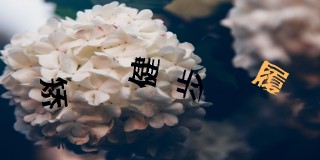健: (128, 56, 160, 88)
履: (250, 60, 290, 96)
步: (177, 69, 202, 102)
矫: (39, 77, 69, 109)
